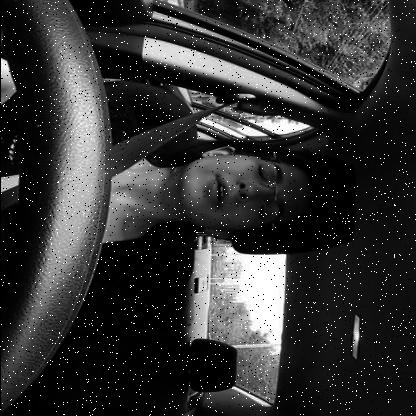seatbelt: (0, 90, 344, 268)
